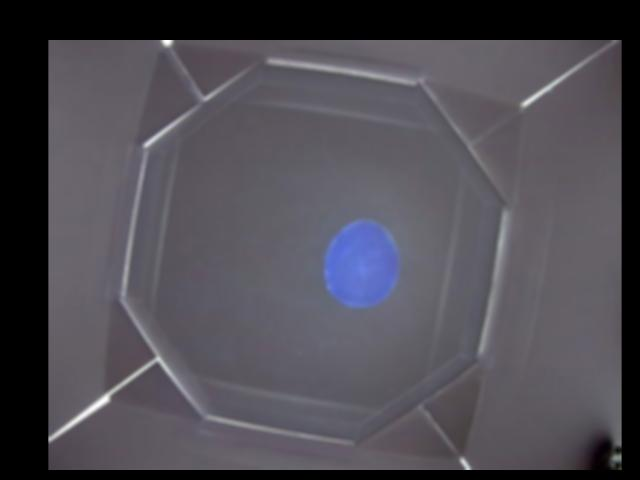Potato: (321, 217, 397, 308)
